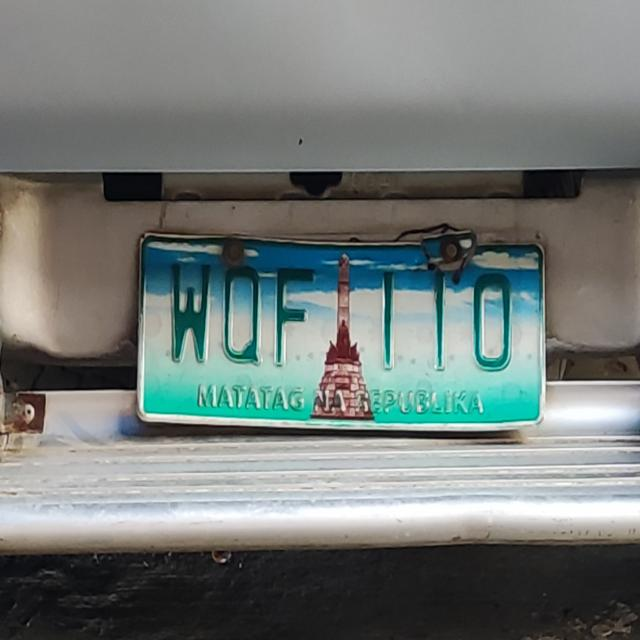plate: (130, 224, 553, 442)
